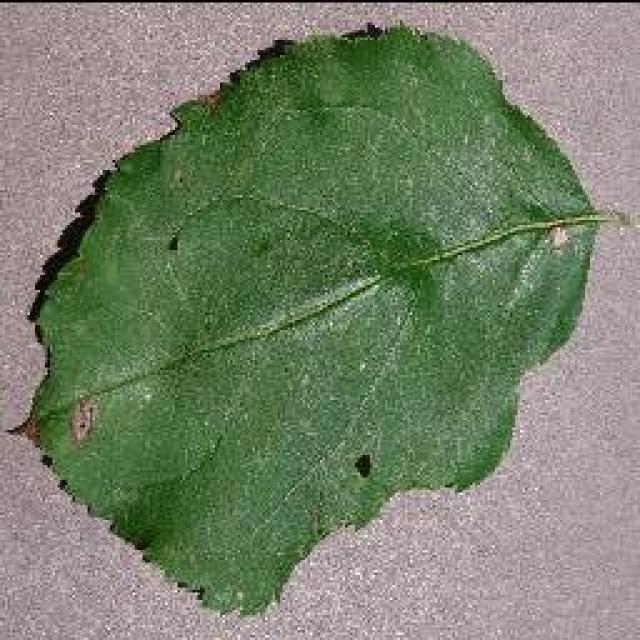apple healthy: (13, 20, 615, 618)
